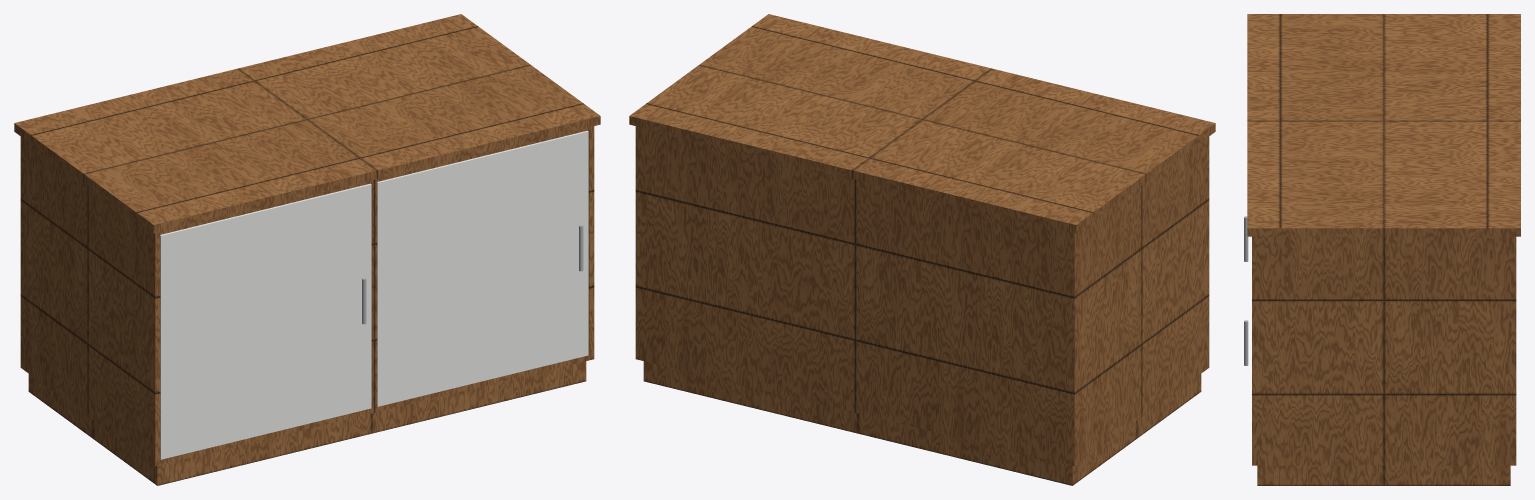
File: Konyhasziget_160.obj
3 renders of one model, left to right at view 1: azimuth 30°, elevation 25°; view 2: azimuth 150°, elevation 25°; view 3: azimuth 270°, elevation 25°, orthographic.
Bounding box in the file's own units: 1.63 × 0.93 × 0.89.
3 materials, 1 textured.
